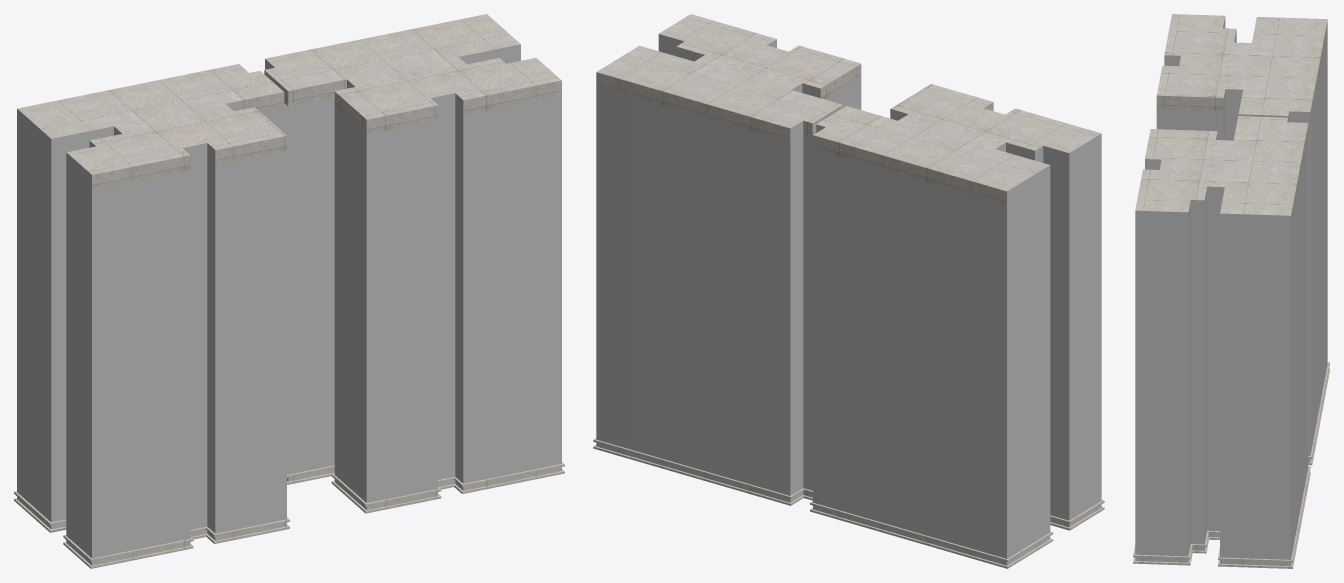
3 views of the same model, side by side, from view 1: azimuth 30°, elevation 25°; view 2: azimuth 150°, elevation 25°; view 3: azimuth 270°, elevation 25° (orthographic). The views are drawn at different scales.
Parts seen in each view (by area): view 1: JZ_JX_633; view 2: JZ_JX_633; view 3: JZ_JX_633.
Boxes of the visible parts, x1=… form: JZ_JX_633: x1=14, y1=14, x2=564, y2=568; JZ_JX_633: x1=593, y1=14, x2=1104, y2=568; JZ_JX_633: x1=1133, y1=14, x2=1329, y2=568.
Size of the model in its own units: 4812 by 3880 by 1966.
